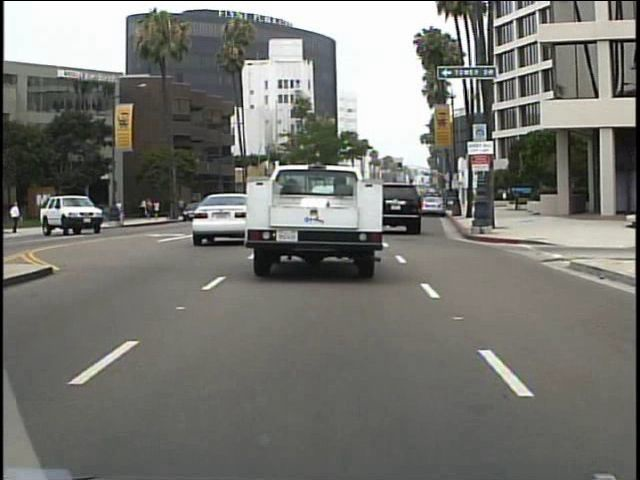person: (10, 196, 26, 236), (69, 191, 85, 228), (62, 198, 79, 232), (112, 194, 128, 224)
